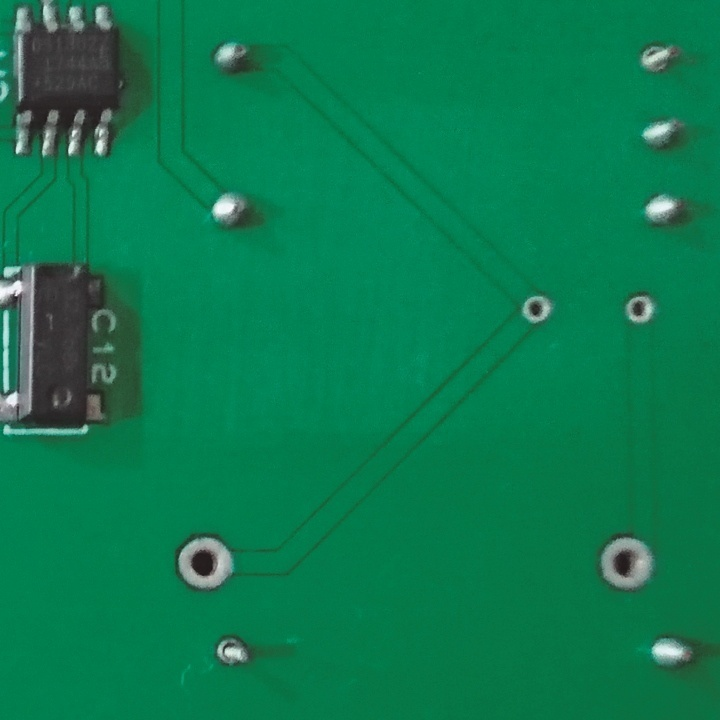F: (174, 532, 239, 596), (595, 535, 659, 592), (636, 40, 681, 78), (519, 289, 555, 335), (213, 631, 250, 672), (622, 290, 656, 329)
